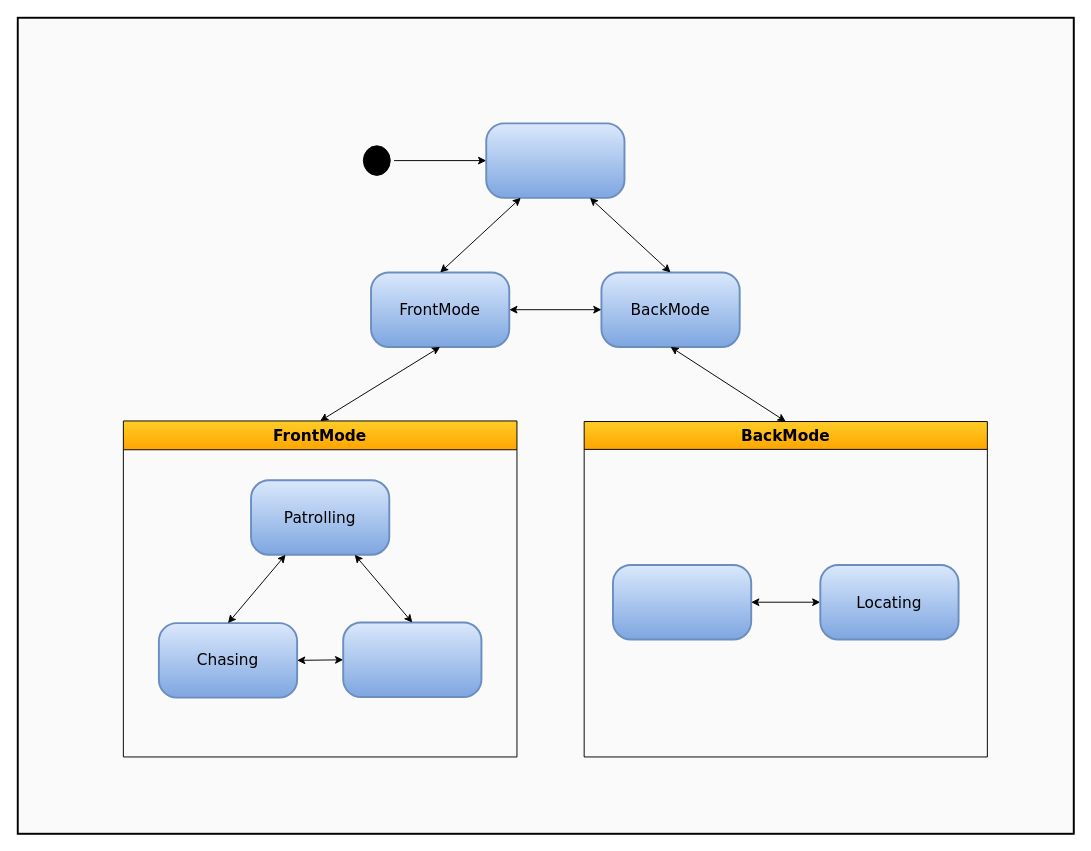
The diagram is 1091 pixels wide and 851 high, and some of its shapes have lost their labels. The shapes that lost their labels are listed below. From the top down, each one's centre as x and y in pixels, then its label:
(x=555, y=160): None
(x=682, y=602): Waiting
(x=412, y=659): Investigating
